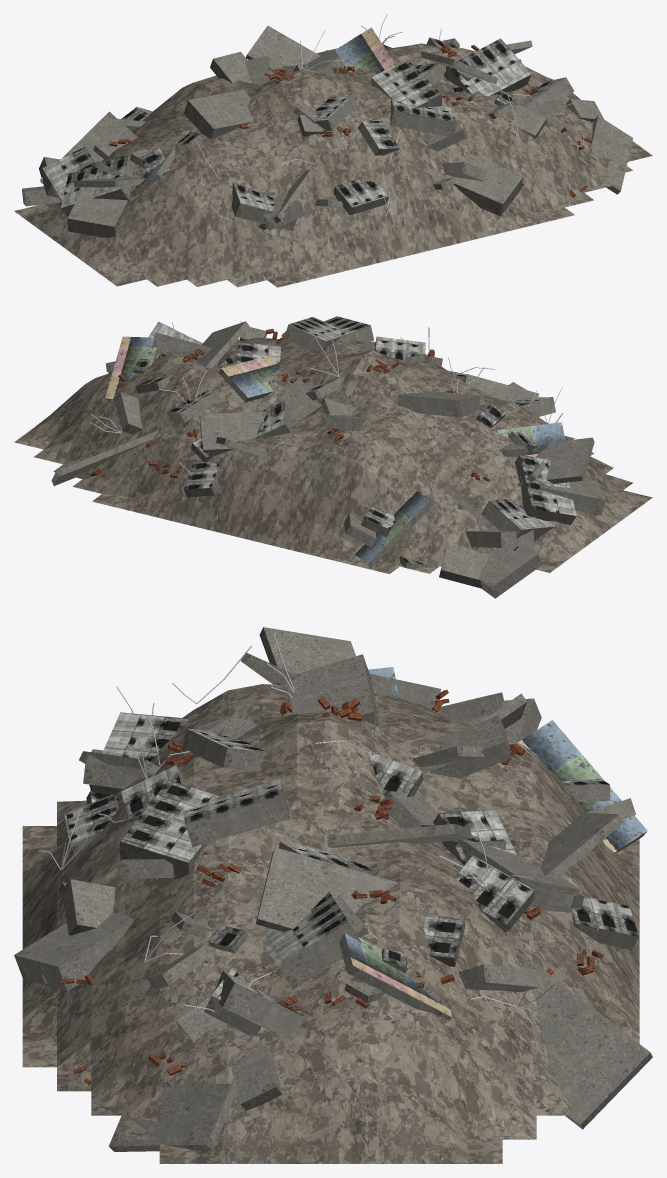
The model's file is S1U_RubbleMound_Wide.fbx.
3 renders of one model, top to bottom at view 1: azimuth 30°, elevation 25°; view 2: azimuth 150°, elevation 25°; view 3: azimuth 270°, elevation 25°, orthographic. The views are drawn at different scales.
Visible parts, largest first — view 1: S1U_RubbleMound_Wide; view 2: S1U_RubbleMound_Wide; view 3: S1U_RubbleMound_Wide.
Part boxes in pixels (box(x1,y1,x2,y2)): S1U_RubbleMound_Wide: box(14, 14, 652, 287); S1U_RubbleMound_Wide: box(14, 316, 652, 598); S1U_RubbleMound_Wide: box(14, 627, 652, 1163).
Bounding box in the file's own units: 20.05 × 5.68 × 12.43.
